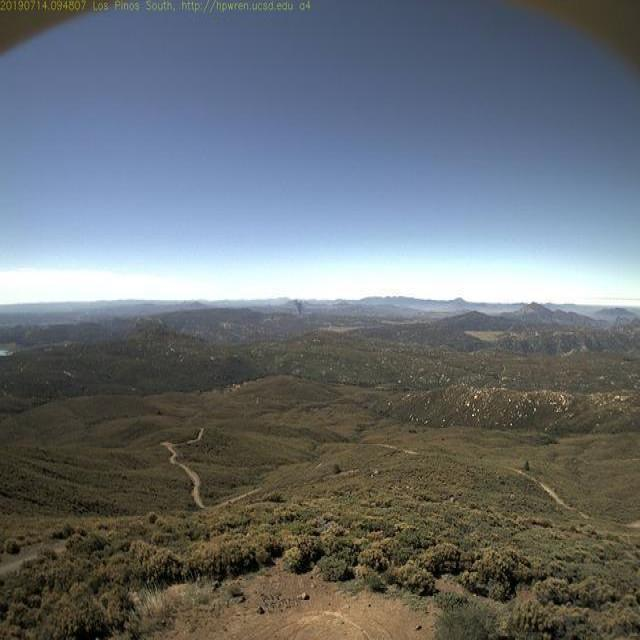Smoke: (287, 291, 309, 321)
